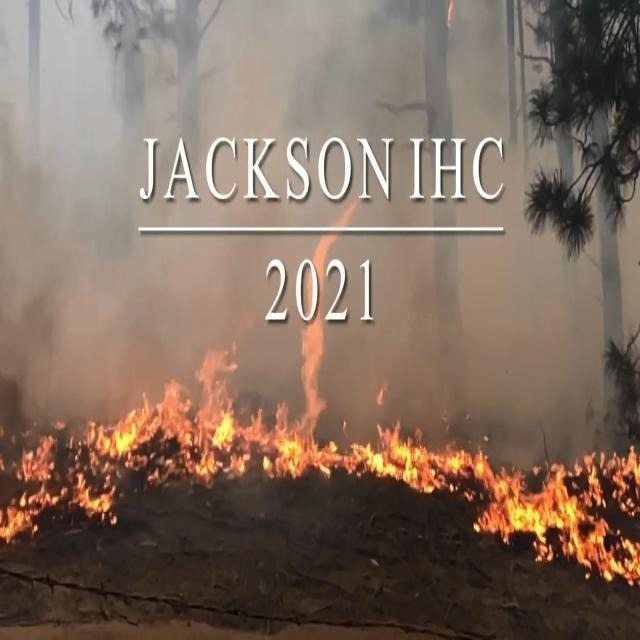Fire: (7, 318, 640, 593)
